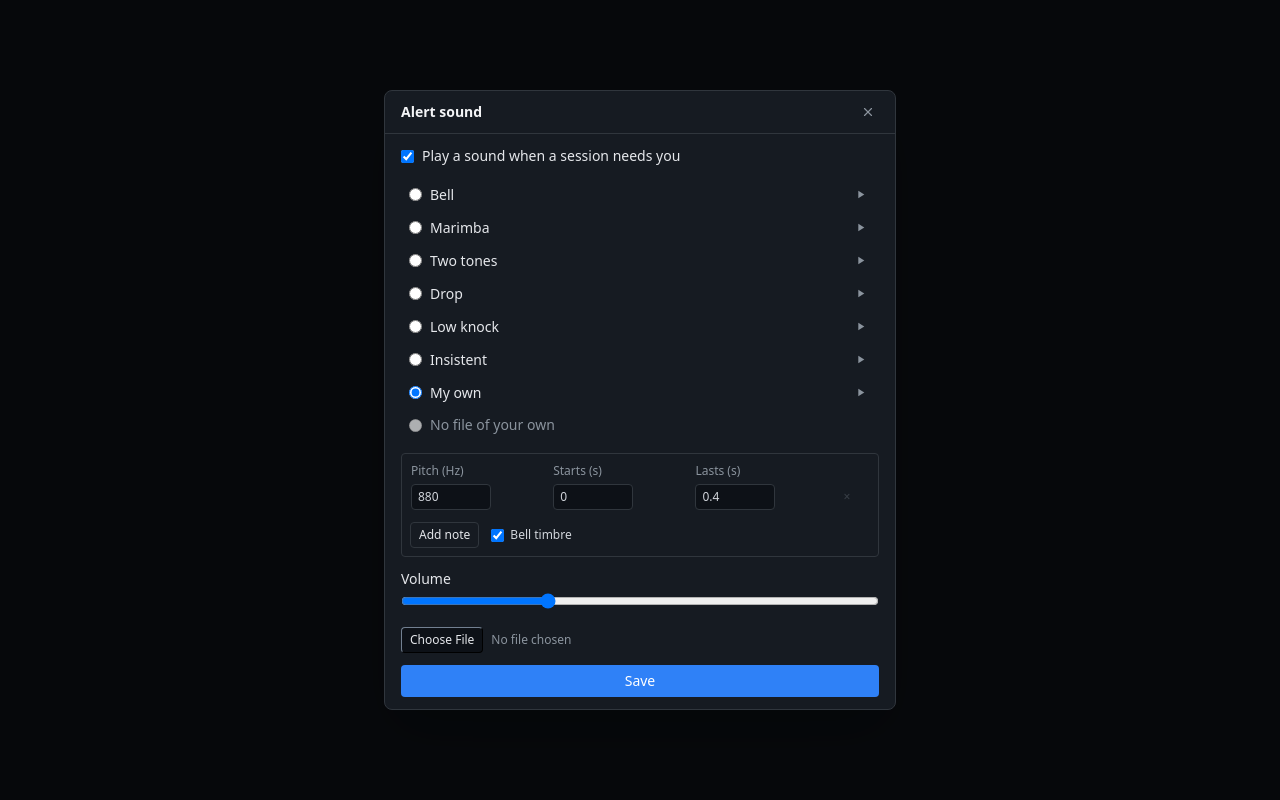
Ajustes de la campanilla › añadir una nota la encadena detrás de la última
Click the button "Add note" at (445, 535), box [410,522,479,548]
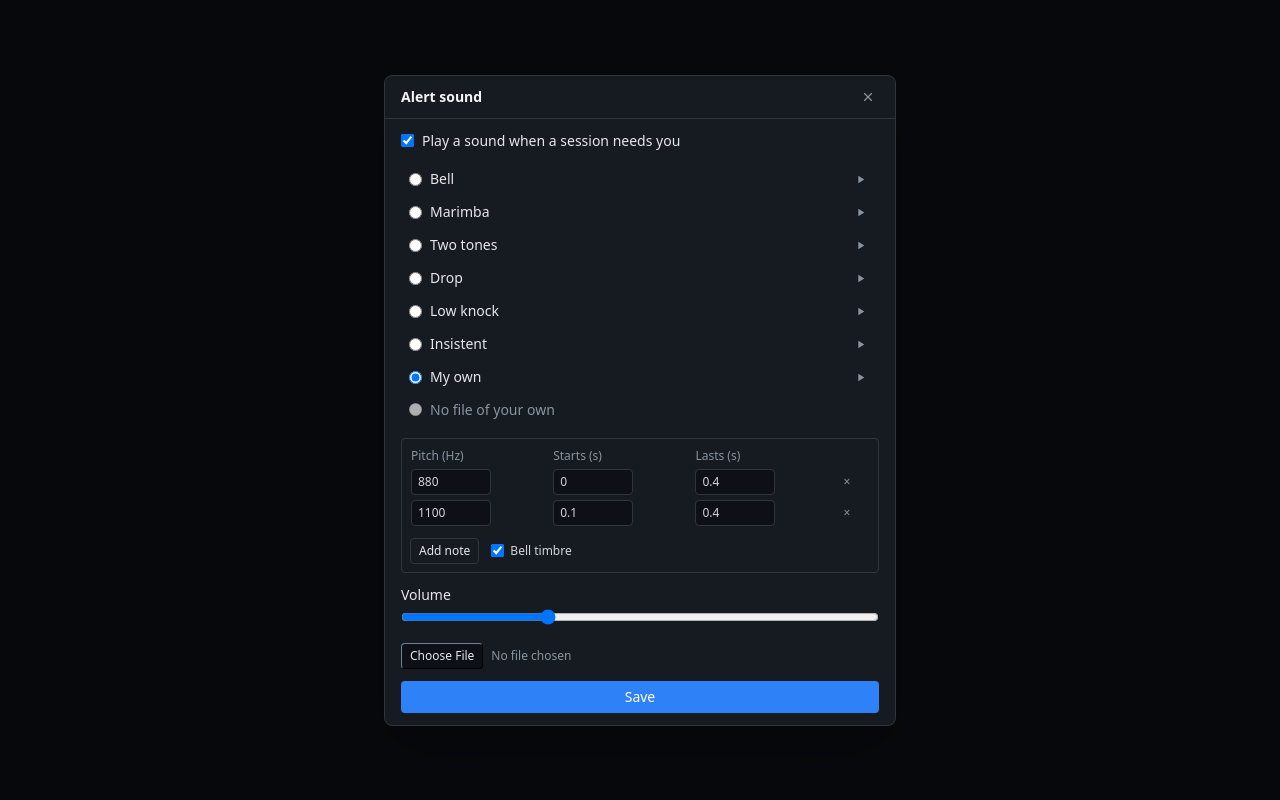
Now the number of number fields named "Starts (s)" is 2, box [553,468,633,494]; [553,500,633,526]
